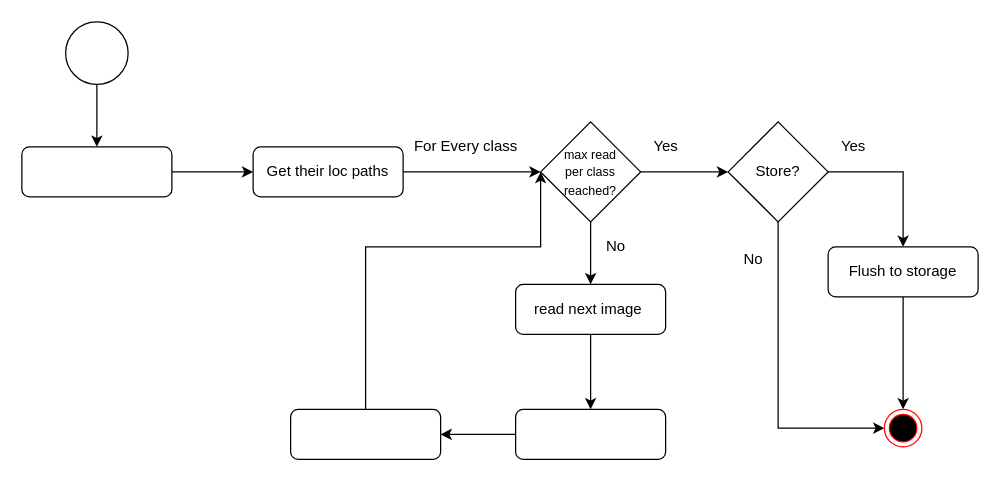
Some shapes in this 1000 by 481 pixel diagram are drawn without their labels. Each missing label, with the box of its shape:
Identify no of classes: (21, 146, 172, 197)
Process image: (514, 408, 666, 459)
Write to storage variable: (289, 408, 441, 459)
